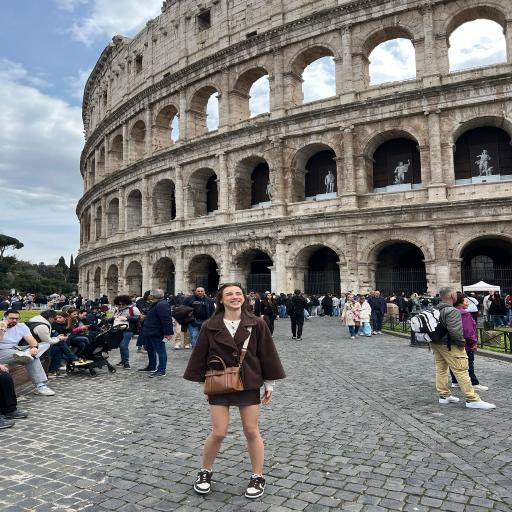masa: (221, 287, 247, 310)
